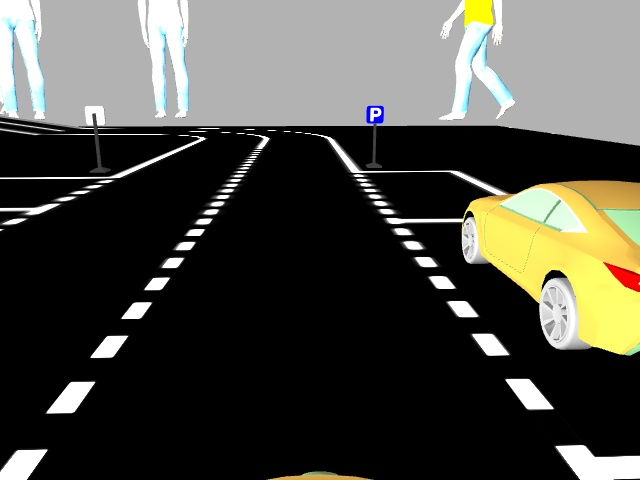Parking: (363, 104, 384, 123)
